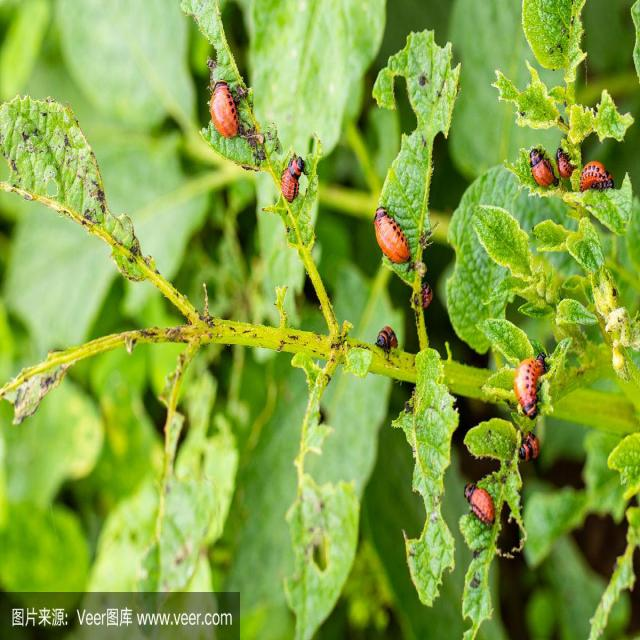ShuCaiHuaBanChong-Larva-: (197, 78, 254, 152), (368, 200, 417, 268), (509, 349, 550, 425), (456, 480, 504, 532), (528, 136, 564, 198), (574, 155, 616, 202), (277, 152, 306, 220)
